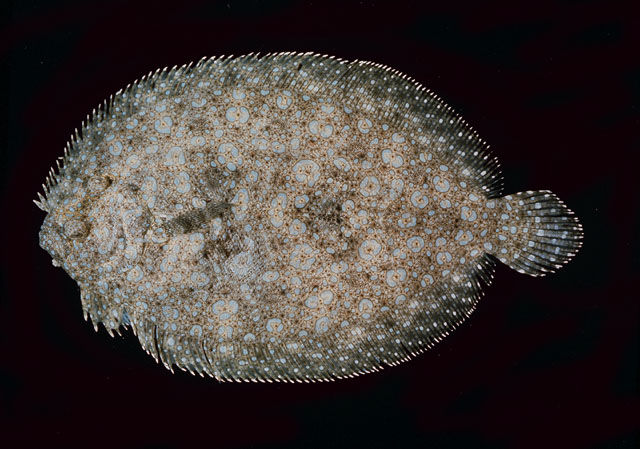fish: (32, 50, 583, 384)
